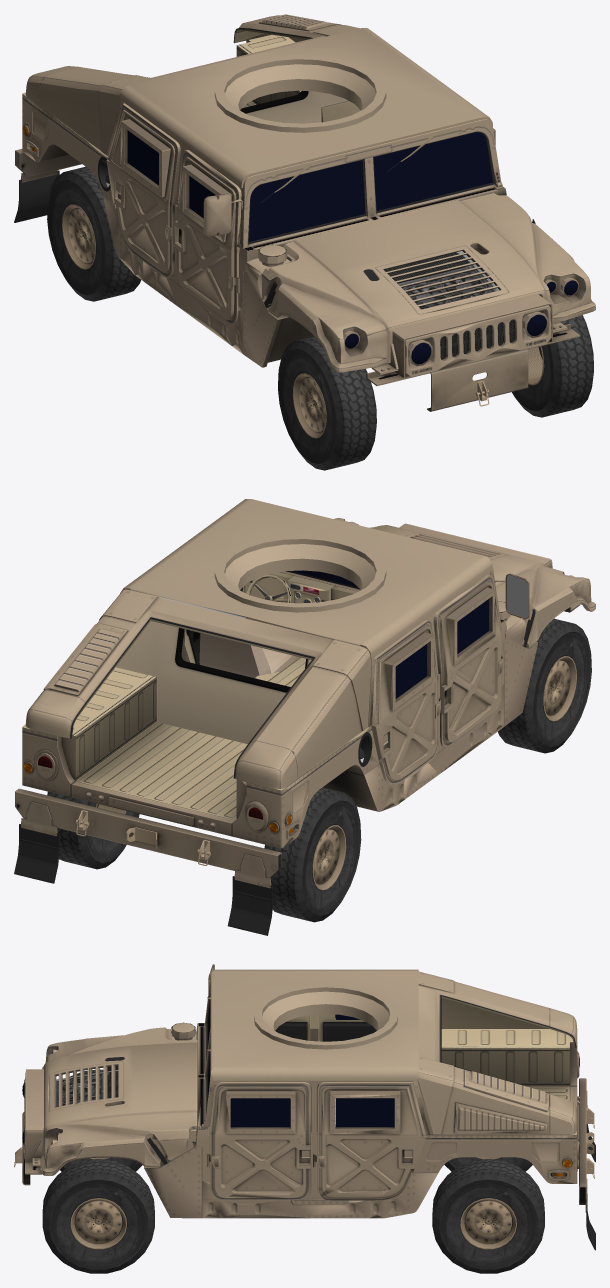
The model's file is Humvee_ 2.fbx.
3 renders of one model, top to bottom at view 1: azimuth 30°, elevation 25°; view 2: azimuth 150°, elevation 25°; view 3: azimuth 270°, elevation 25°, orthographic. The views are drawn at different scales.
Parts seen in each view (by area): view 1: Jeep, Wheel_FR, Wheel_BR, Wheel_FL; view 2: Jeep, Wheel_BR, Wheel_FR, Wheel_BL; view 3: Jeep, Wheel_FL, Wheel_BL, Wheel_BR, Wheel_FR.
Part boxes in pixels (x1=…): Jeep: x1=14, y1=14, x2=595, y2=411; Wheel_FR: x1=278, y1=336, x2=376, y2=470; Wheel_BR: x1=47, y1=166, x2=140, y2=301; Wheel_FL: x1=512, y1=294, x2=593, y2=417; Jeep: x1=14, y1=499, x2=595, y2=935; Wheel_BR: x1=264, y1=787, x2=361, y2=922; Wheel_FR: x1=498, y1=618, x2=591, y2=753; Wheel_BL: x1=47, y1=791, x2=139, y2=869; Jeep: x1=14, y1=964, x2=595, y2=1250; Wheel_FL: x1=42, y1=1159, x2=154, y2=1273; Wheel_BL: x1=432, y1=1159, x2=544, y2=1273; Wheel_BR: x1=444, y1=1157, x2=532, y2=1171; Wheel_FR: x1=60, y1=1069, x2=142, y2=1171.
Bounding box in the file's own units: 91.18 × 71.61 × 182.
Materials: 6 (4 with a texture image).
